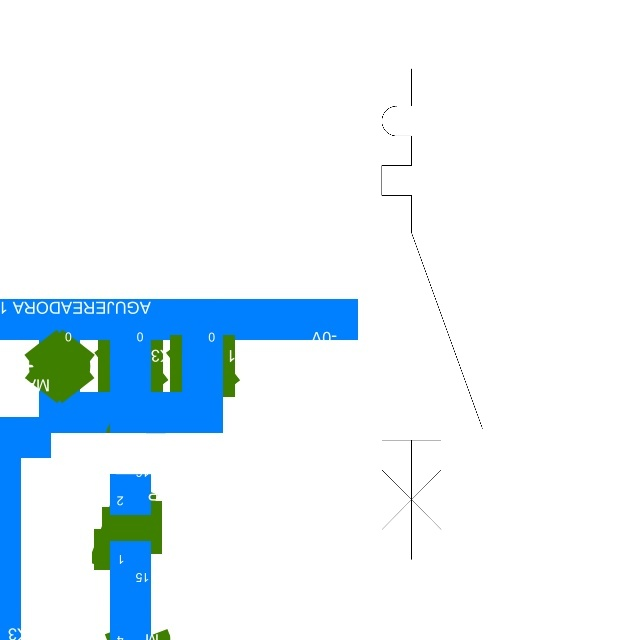interruptor_termomagnetico: (369, 56, 495, 571)
